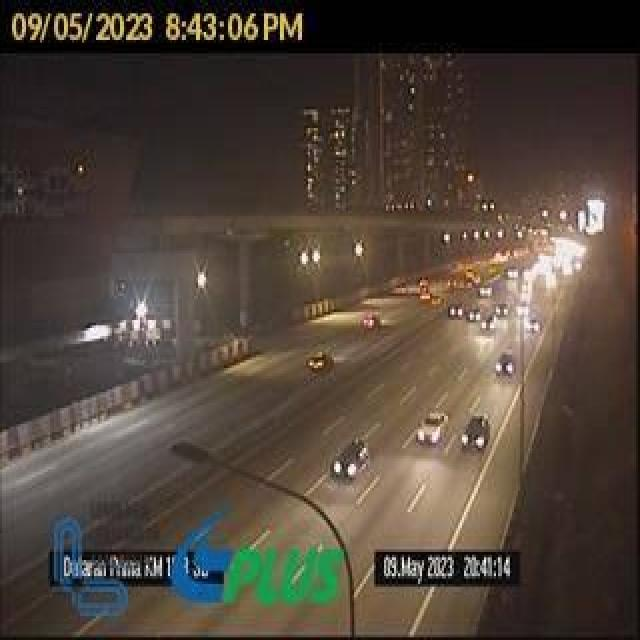Car: (332, 438, 370, 484), (415, 413, 449, 448), (460, 414, 492, 451), (497, 350, 515, 380), (306, 354, 332, 372), (362, 314, 379, 330)
